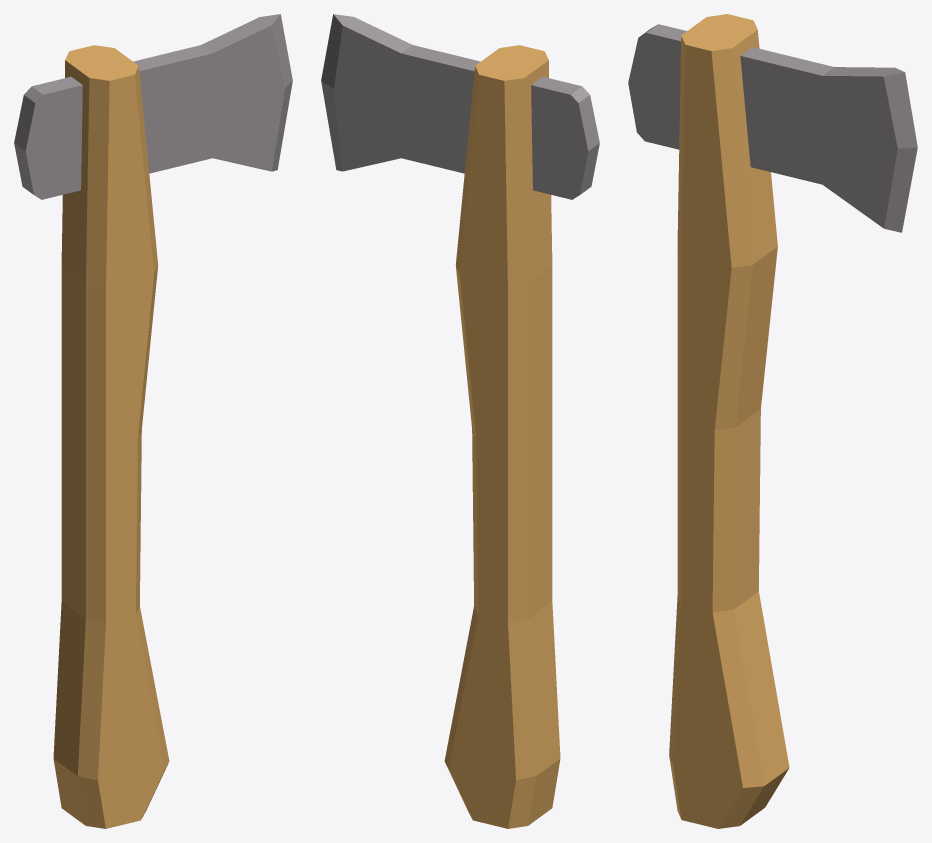
The model's file is Base_Axe.fbx.
3 renders of one model, left to right at view 1: azimuth 30°, elevation 25°; view 2: azimuth 150°, elevation 25°; view 3: azimuth 330°, elevation 25°, orthographic. The views are drawn at different scales.
Visible parts, largest first — view 1: Cube, Cube.001; view 2: Cube, Cube.001; view 3: Cube, Cube.001.
Boxes of the visible parts, <box> form: Cube: <box>53,45,169,828</box>; Cube.001: <box>14,14,292,199</box>; Cube: <box>444,45,560,828</box>; Cube.001: <box>321,14,599,199</box>; Cube: <box>669,14,789,828</box>; Cube.001: <box>628,24,917,232</box>.
Bounding box in the file's own units: 27.27 × 71.81 × 7.
